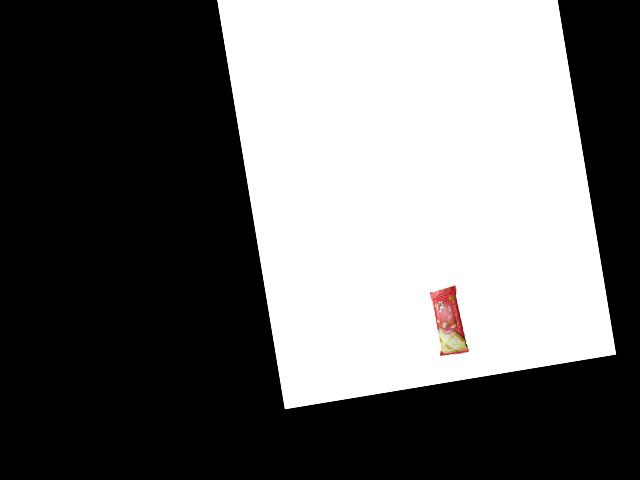chocolate: (426, 279, 473, 357)
